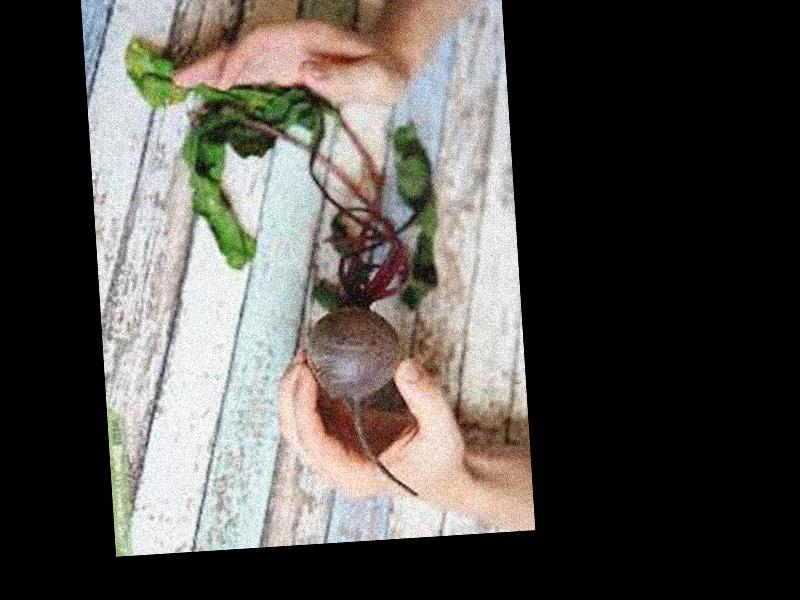Beet: (124, 22, 452, 513)
